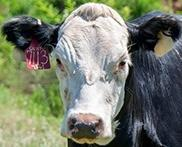muzzles: (59, 107, 116, 145)
